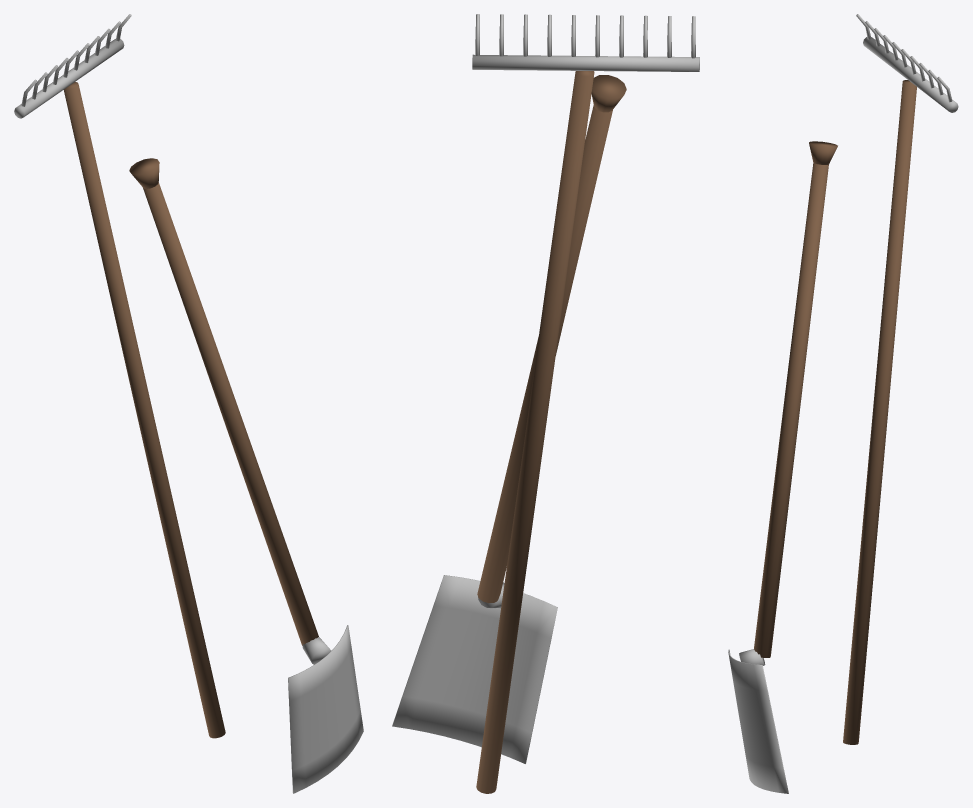
Rendered from fx_long_tools.glb.
3 renders of one model, left to right at view 1: azimuth 30°, elevation 25°; view 2: azimuth 150°, elevation 25°; view 3: azimuth 270°, elevation 25°, orthographic. The views are drawn at different scales.
Visible parts, largest first — view 1: fx_long_tools; view 2: fx_long_tools; view 3: fx_long_tools.
Boxes of the visible parts, x1,y1,x2,y2 form: fx_long_tools: (14, 14, 363, 793); fx_long_tools: (392, 14, 699, 793); fx_long_tools: (728, 14, 958, 793).
Bounding box in the file's own units: 0.662 × 1.5 × 0.4659.
